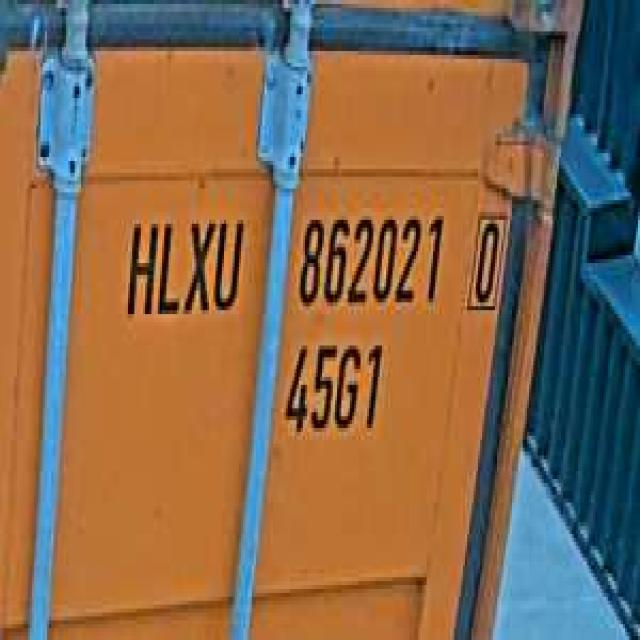dv: (465, 200, 508, 318)
owner: (120, 204, 248, 330)
serial: (292, 200, 446, 314)
size: (280, 329, 388, 444)
